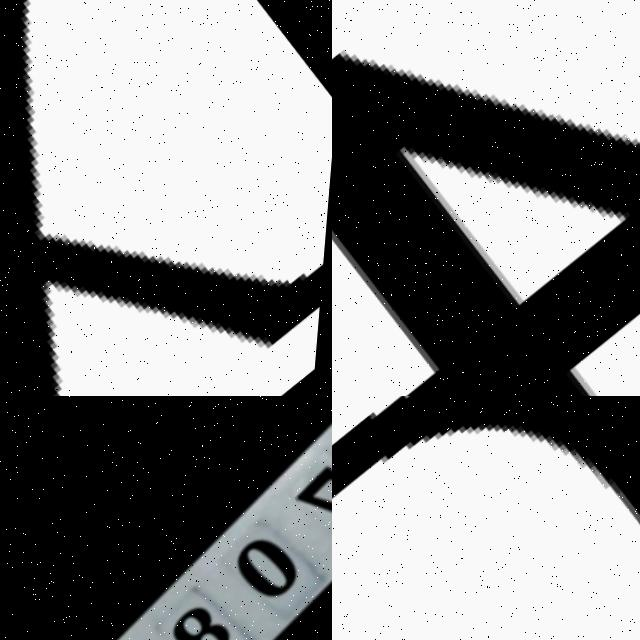0: (212, 505, 332, 624)
7: (279, 439, 332, 554)
8: (152, 576, 262, 640)
C: (332, 396, 640, 535)
X: (0, 0, 332, 396)
